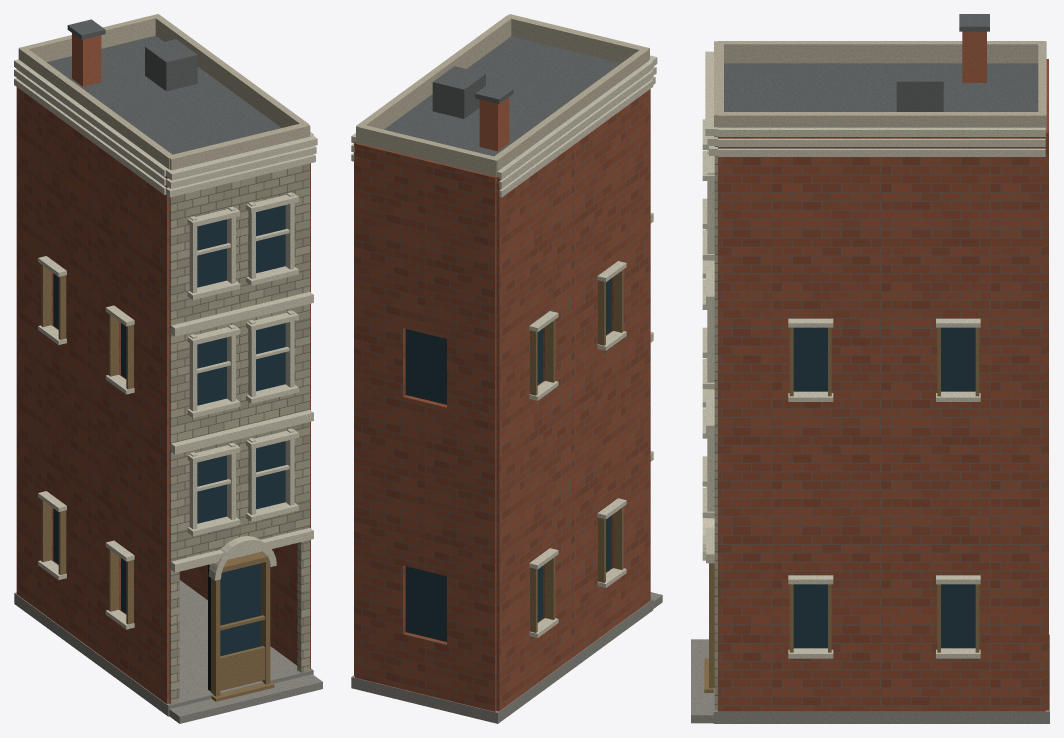
File: OFFC17_lod2.glb
The picture shows the model from 3 angles, left to right: view 1: azimuth 30°, elevation 25°; view 2: azimuth 150°, elevation 25°; view 3: azimuth 270°, elevation 25°; orthographic projection. The views are drawn at different scales.
Visible parts, largest first — view 1: OFFC17_LOD2; view 2: OFFC17_LOD2; view 3: OFFC17_LOD2.
Boxes of the visible parts, x1=… form: OFFC17_LOD2: x1=14, y1=14, x2=322, y2=723; OFFC17_LOD2: x1=351, y1=14, x2=662, y2=723; OFFC17_LOD2: x1=691, y1=14, x2=1049, y2=723.
Size of the model in its own units: 3.71 by 13.05 by 6.57.
Materials: 10 (8 with a texture image).
